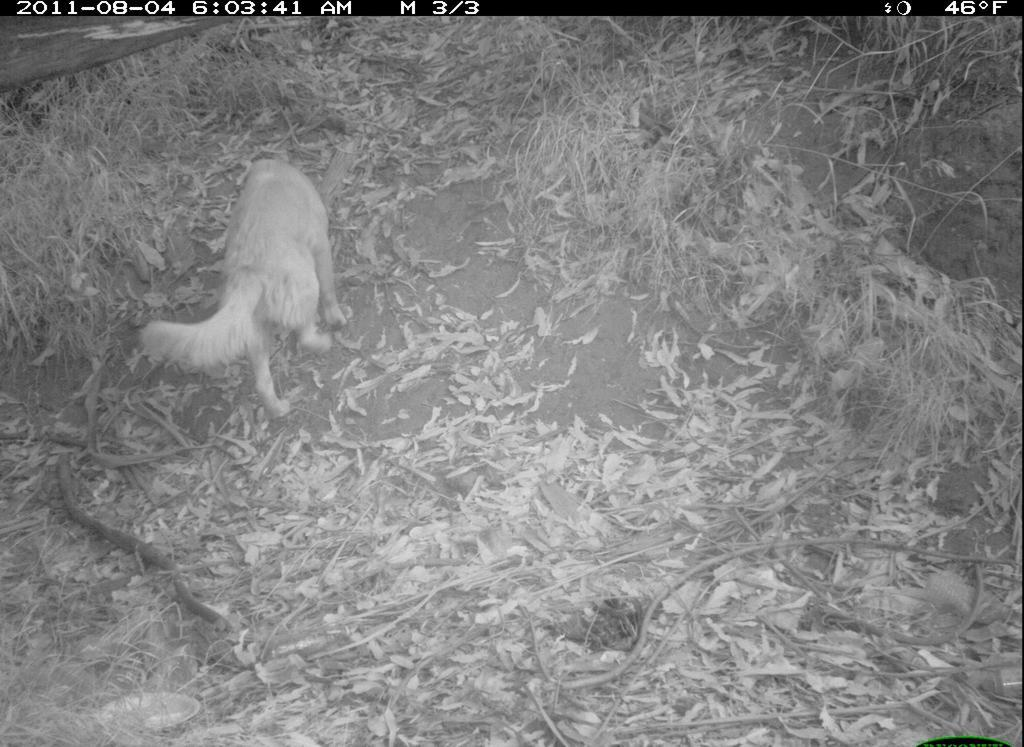dog: (133, 148, 360, 426)
